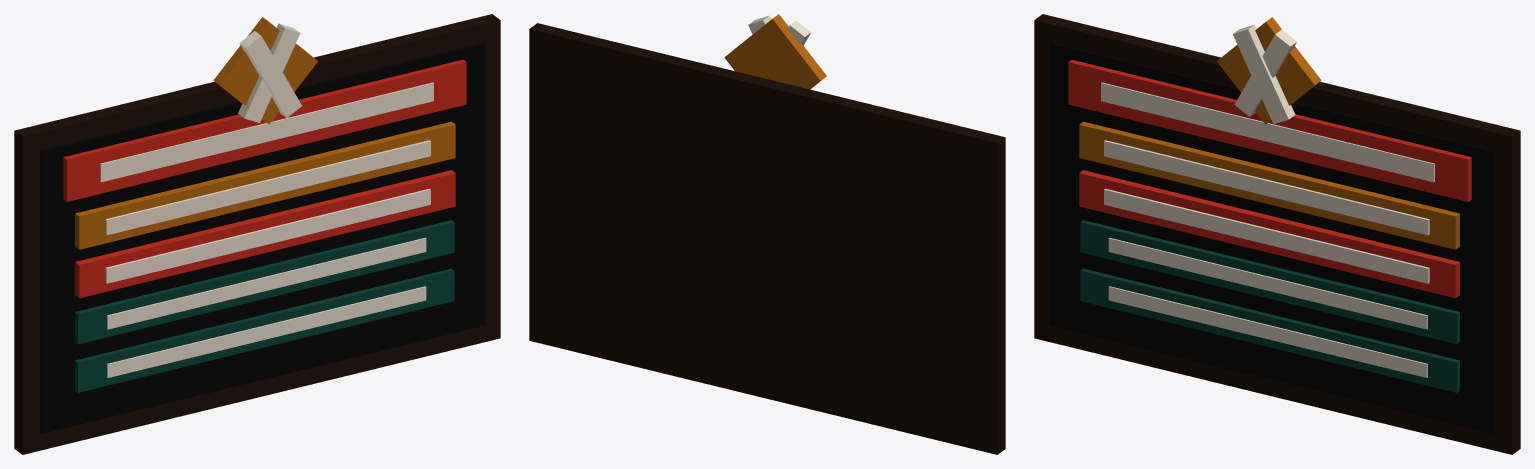
Rendered from cozy_bowling_leaderboard_chalkboard.obj.
3 renders of one model, left to right at view 1: azimuth 30°, elevation 25°; view 2: azimuth 150°, elevation 25°; view 3: azimuth 330°, elevation 25°, orthographic. The views are drawn at different scales.
Parts seen in each view (by area): view 1: Leaderboard_Mesh; view 2: Leaderboard_Mesh; view 3: Leaderboard_Mesh.
Boxes of the visible parts, x1,y1,x2,y2 form: Leaderboard_Mesh: [14, 14, 500, 454]; Leaderboard_Mesh: [529, 14, 1005, 454]; Leaderboard_Mesh: [1034, 14, 1520, 454].
Bounding box in the file's own units: 1.65 × 1.25 × 0.125.
